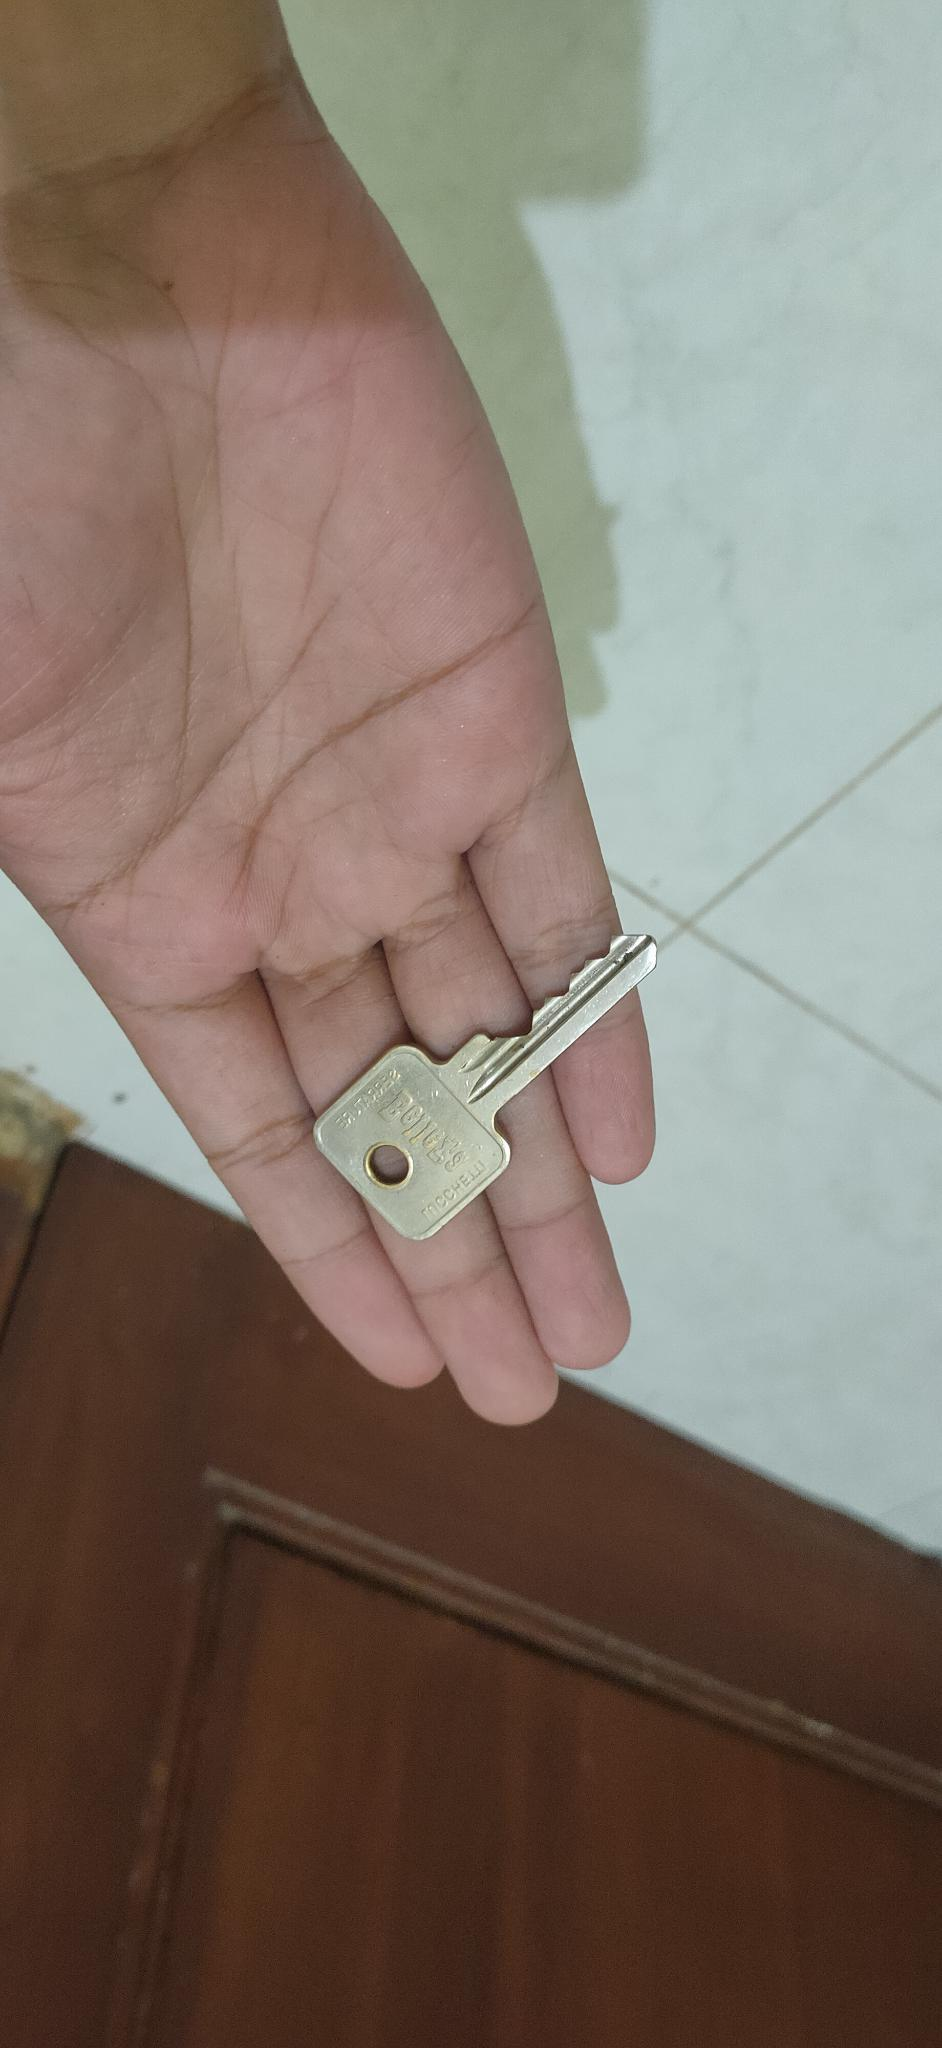keys: (294, 903, 687, 1264)
